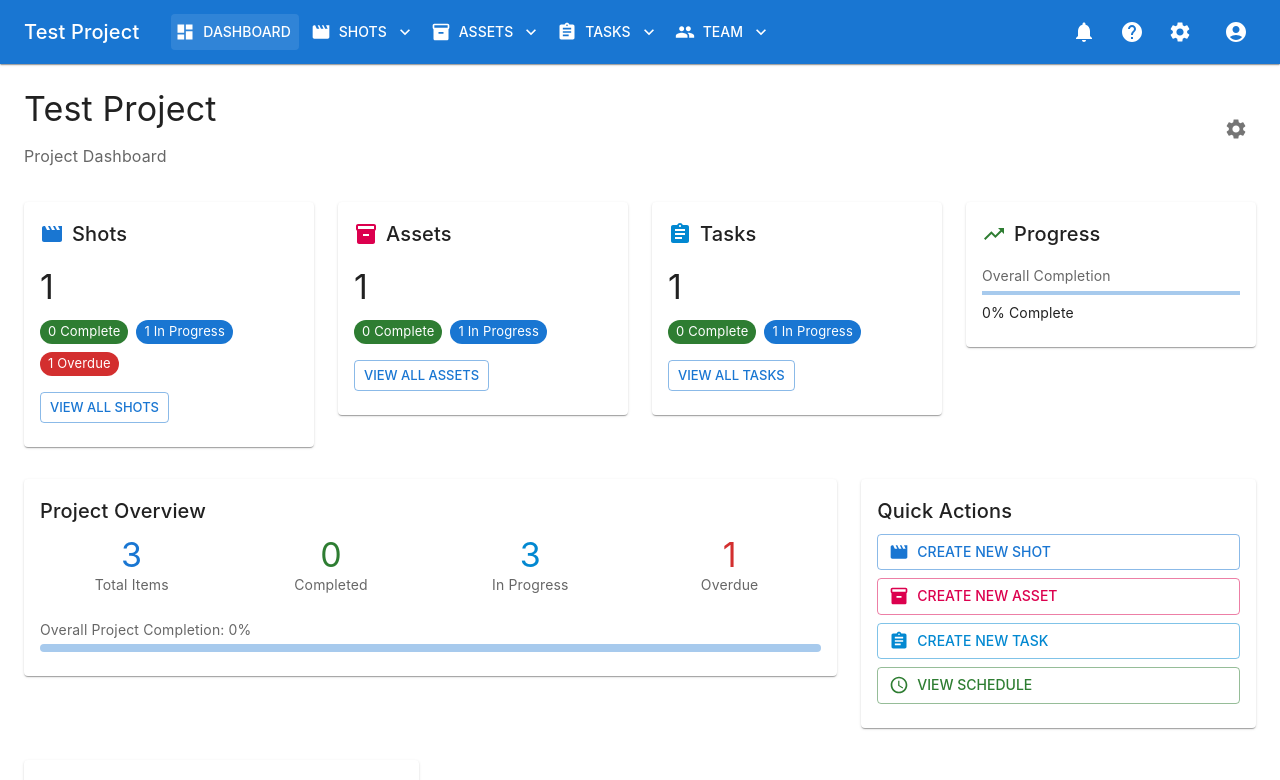
Test: Dashboard and Navigation Integration › handles user menu interactions correctly
Expected: the heading "Project Dashboard" is shown, [24, 146, 167, 166]
# Click user menu
Click the button named "account".
click(1236, 32)  # box [1216, 12, 1256, 52]
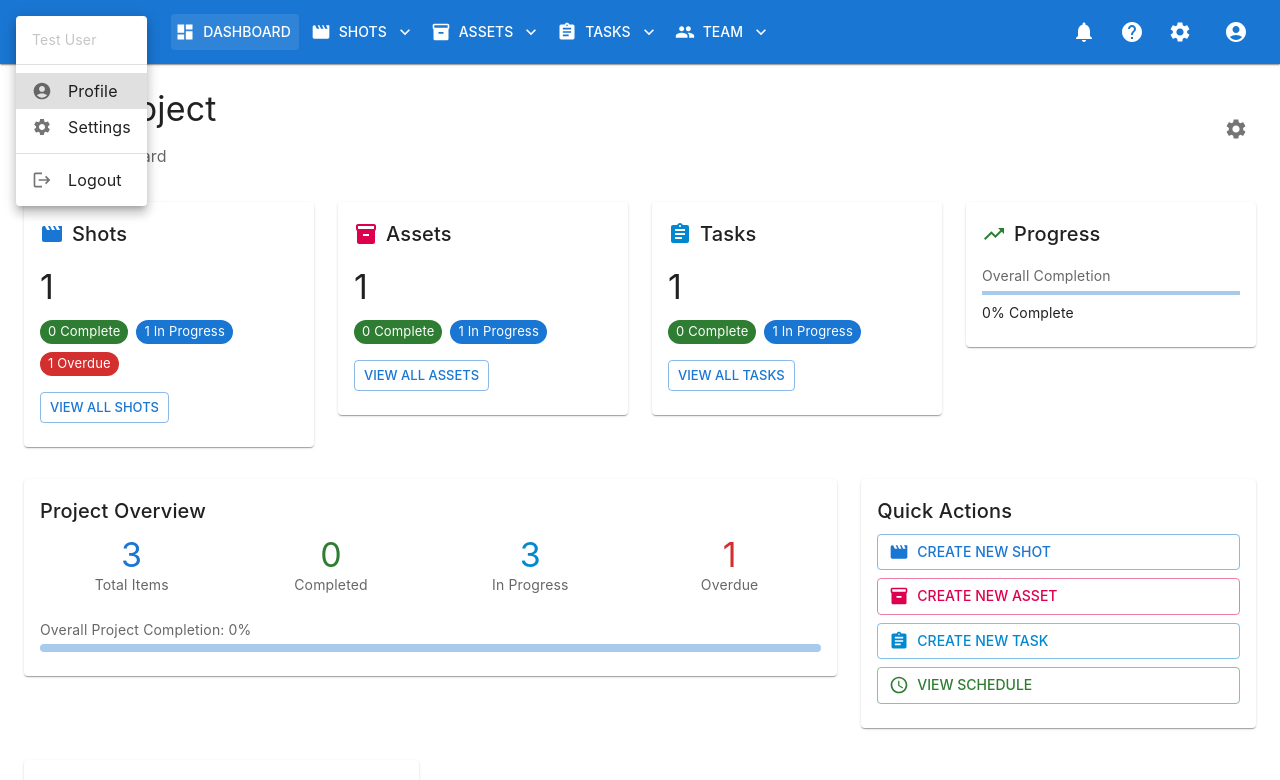
Result: the text "Test User" is shown at [32, 30, 97, 50]
Result: the menu item "Profile" is shown at [16, 73, 147, 109]
Result: the menu item "Settings" is shown
# Click Settings in user menu
Click the menu item "Settings".
click(81, 127)  # box [32, 117, 131, 137]
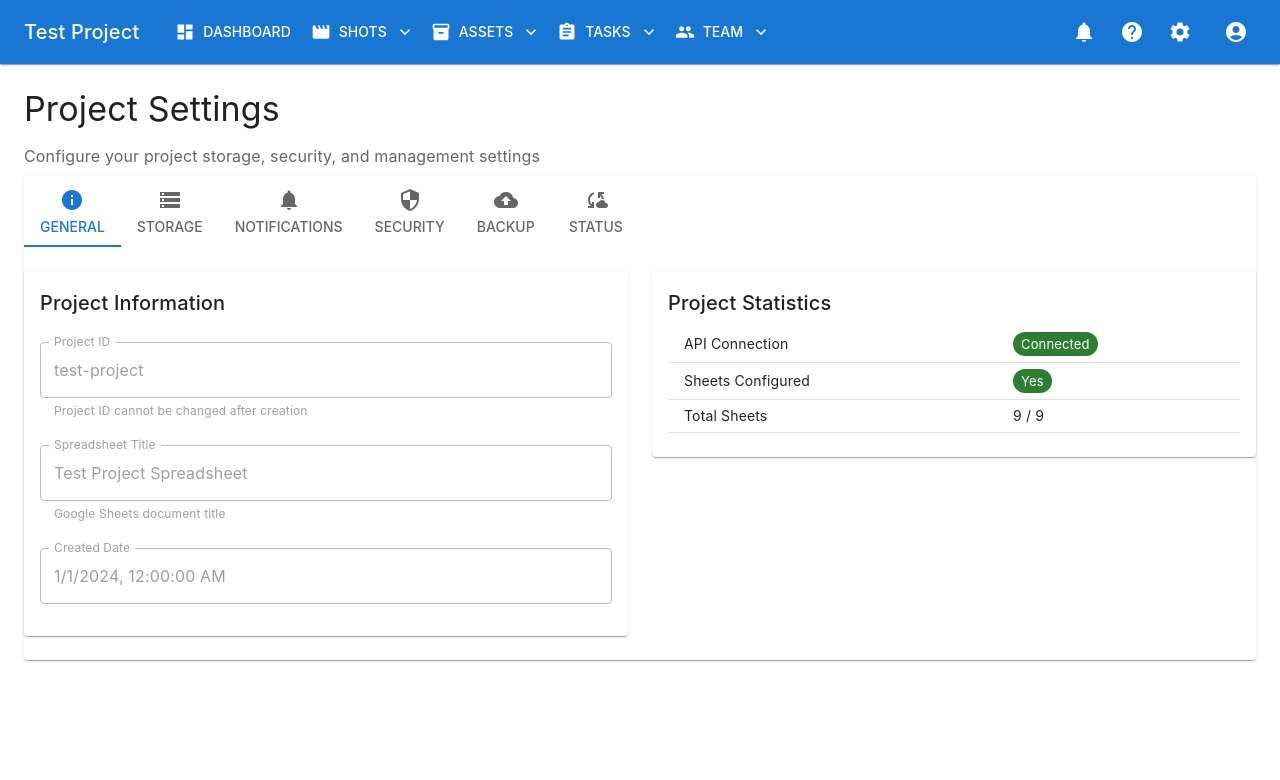
Result: the heading "Project Settings" is shown at [24, 88, 280, 129]
